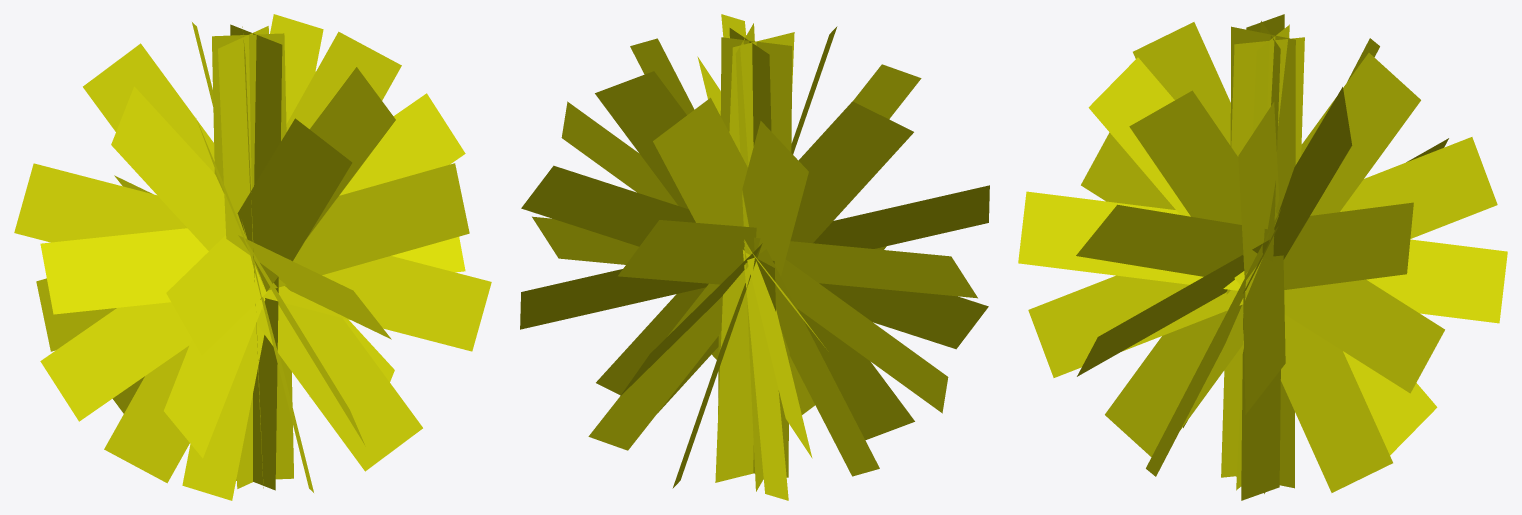
The model's file is PomPom.fbx.
3 views of the same model, side by side, from view 1: azimuth 30°, elevation 25°; view 2: azimuth 150°, elevation 25°; view 3: azimuth 270°, elevation 25° (orthographic).
Visible parts, largest first — view 1: Plane.001; view 2: Plane.001; view 3: Plane.001.
Part boxes in pixels (<box>): Plane.001: <box>14,14,491,500</box>; Plane.001: <box>520,14,989,500</box>; Plane.001: <box>1018,14,1507,500</box>.
Bounding box in the file's own units: 63.86 × 63.54 × 63.92.
